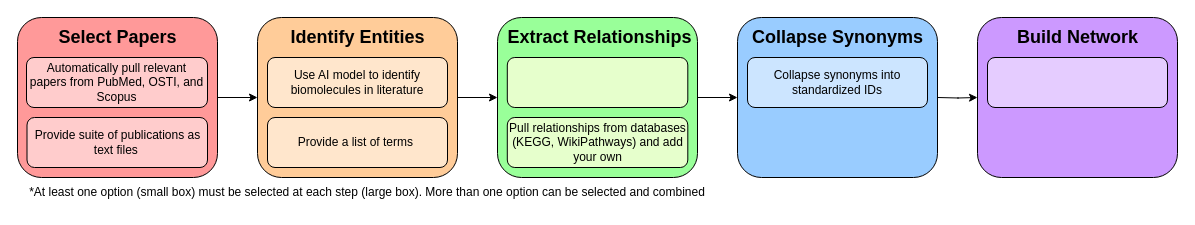
The diagram is 1195 pixels wide and 225 high, and some of its shapes have lost their labels. Here are the shapes that lost their labels. From the top down, the centre of each, then its label:
[597,82]: Use AI model to find relationships in literature
[1077,82]: Build & Visualize Multi-Omic Network
